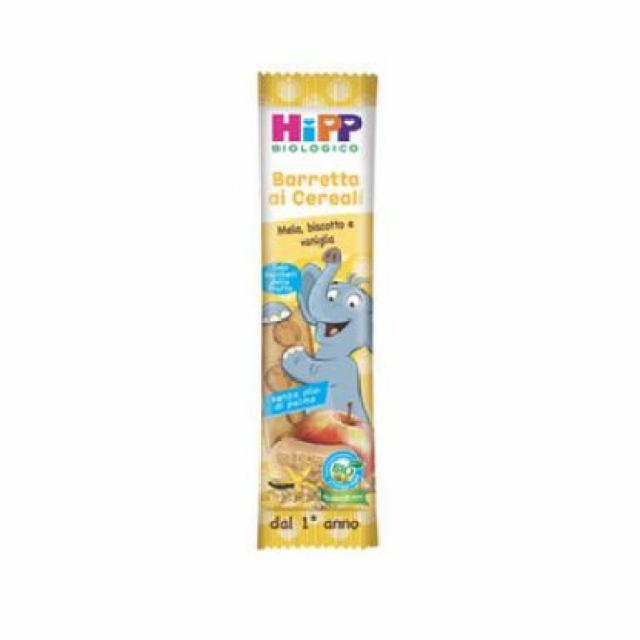Cereal bar: (250, 69, 384, 558)
